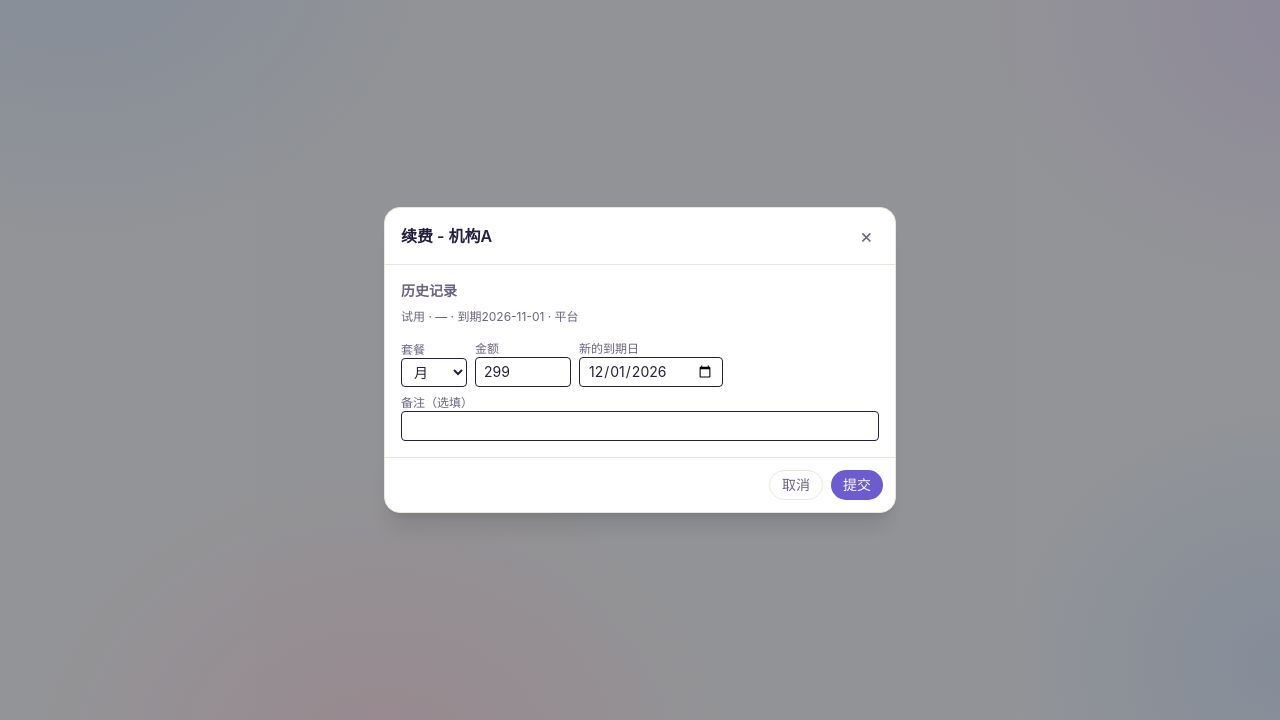
RenewalModal › switching plan updates the suggested amount and valid-until
Expected: the text "平台" is shown, 555,309 -> 579,324
Select "年" in the dropdown labelled "套餐" at (434, 372), box 401,358 -> 467,387
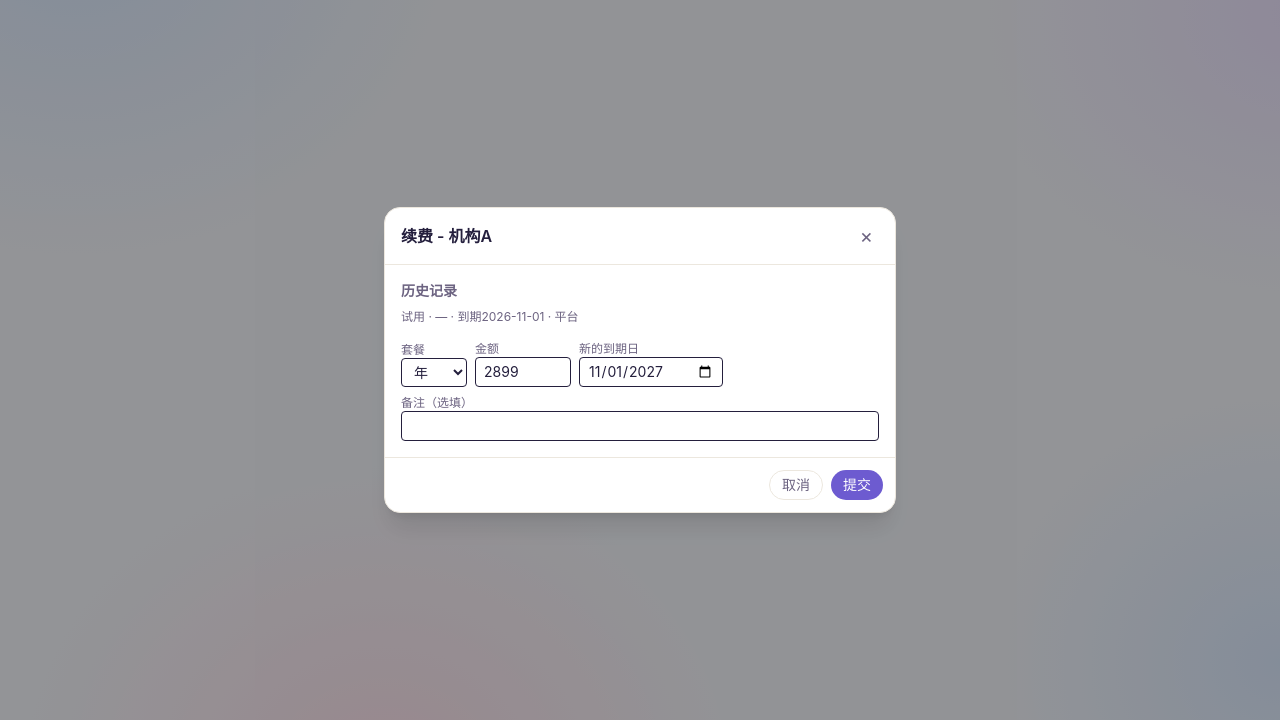
Now the number field labelled "金额" holds "2899", box 475,357 -> 571,387
Now the date field labelled "新的到期日" holds "2027-11-01", box 579,357 -> 723,387
